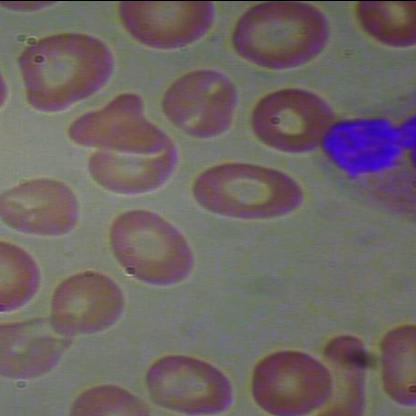RBC: (103, 198, 202, 294), (18, 30, 118, 116), (228, 0, 334, 74), (84, 126, 188, 198), (42, 268, 146, 339), (240, 346, 344, 416), (187, 161, 305, 222), (141, 347, 246, 415), (250, 82, 336, 158), (158, 68, 244, 140), (1, 167, 85, 240), (116, 0, 216, 58), (344, 1, 415, 56), (375, 320, 415, 408)
WBC: (315, 73, 415, 232)
